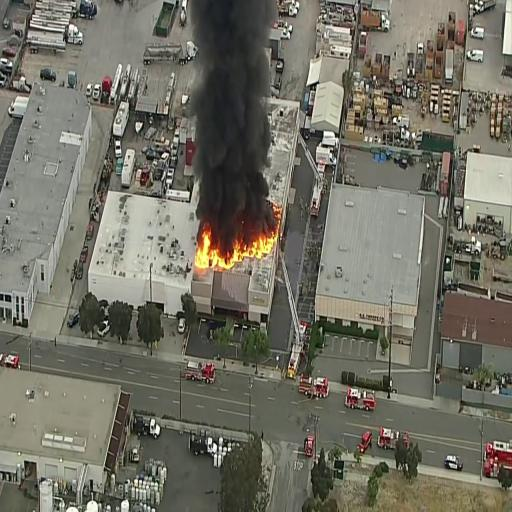fire: (197, 235, 212, 273)
smoke: (203, 0, 253, 229)
